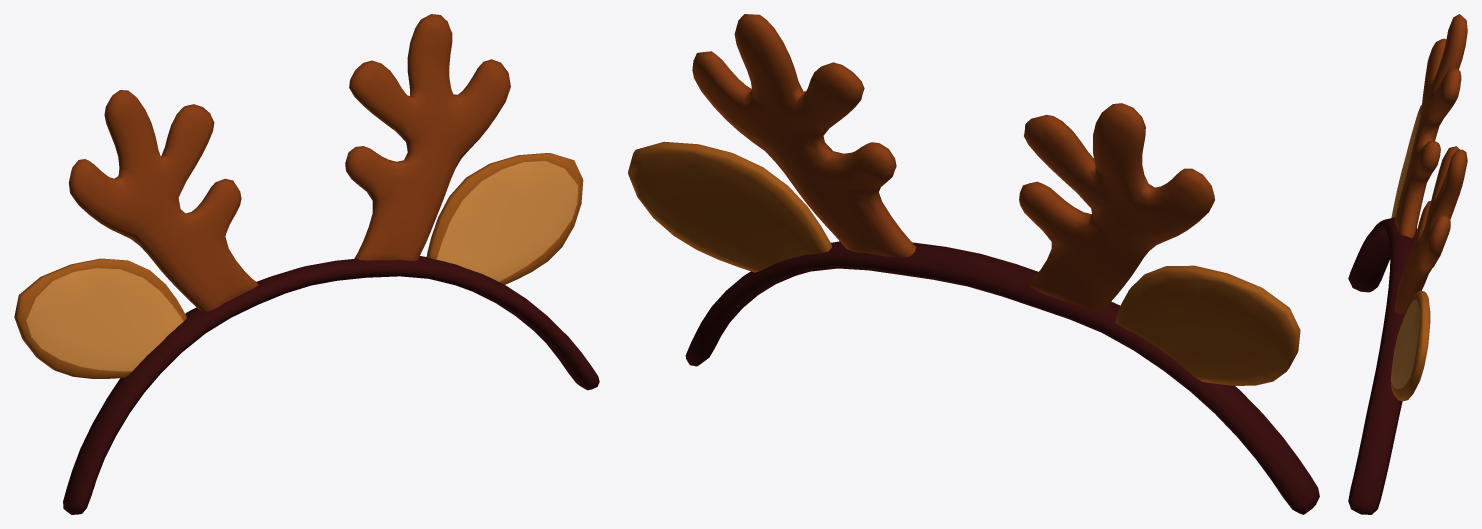
File: deer_horn.glb
3 renders of one model, left to right at view 1: azimuth 30°, elevation 25°; view 2: azimuth 150°, elevation 25°; view 3: azimuth 270°, elevation 25°, orthographic. The views are drawn at different scales.
Parts seen in each view (by area): view 1: deer_horn; view 2: deer_horn; view 3: deer_horn.
Part boxes in pixels (left/top/right/bottom): deer_horn: left=14, top=14, right=599, bottom=514; deer_horn: left=628, top=14, right=1319, bottom=514; deer_horn: left=1348, top=14, right=1467, bottom=514.
Bounding box in the file's own units: 1.43 × 0.8658 × 0.2931.
1 material, 1 textured.
